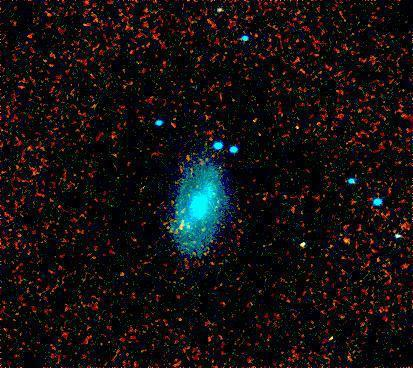star: (336, 228, 366, 258)
